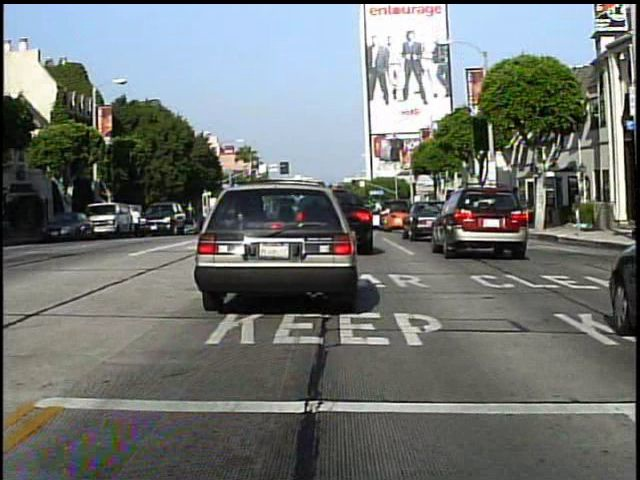person: (131, 203, 144, 238)
